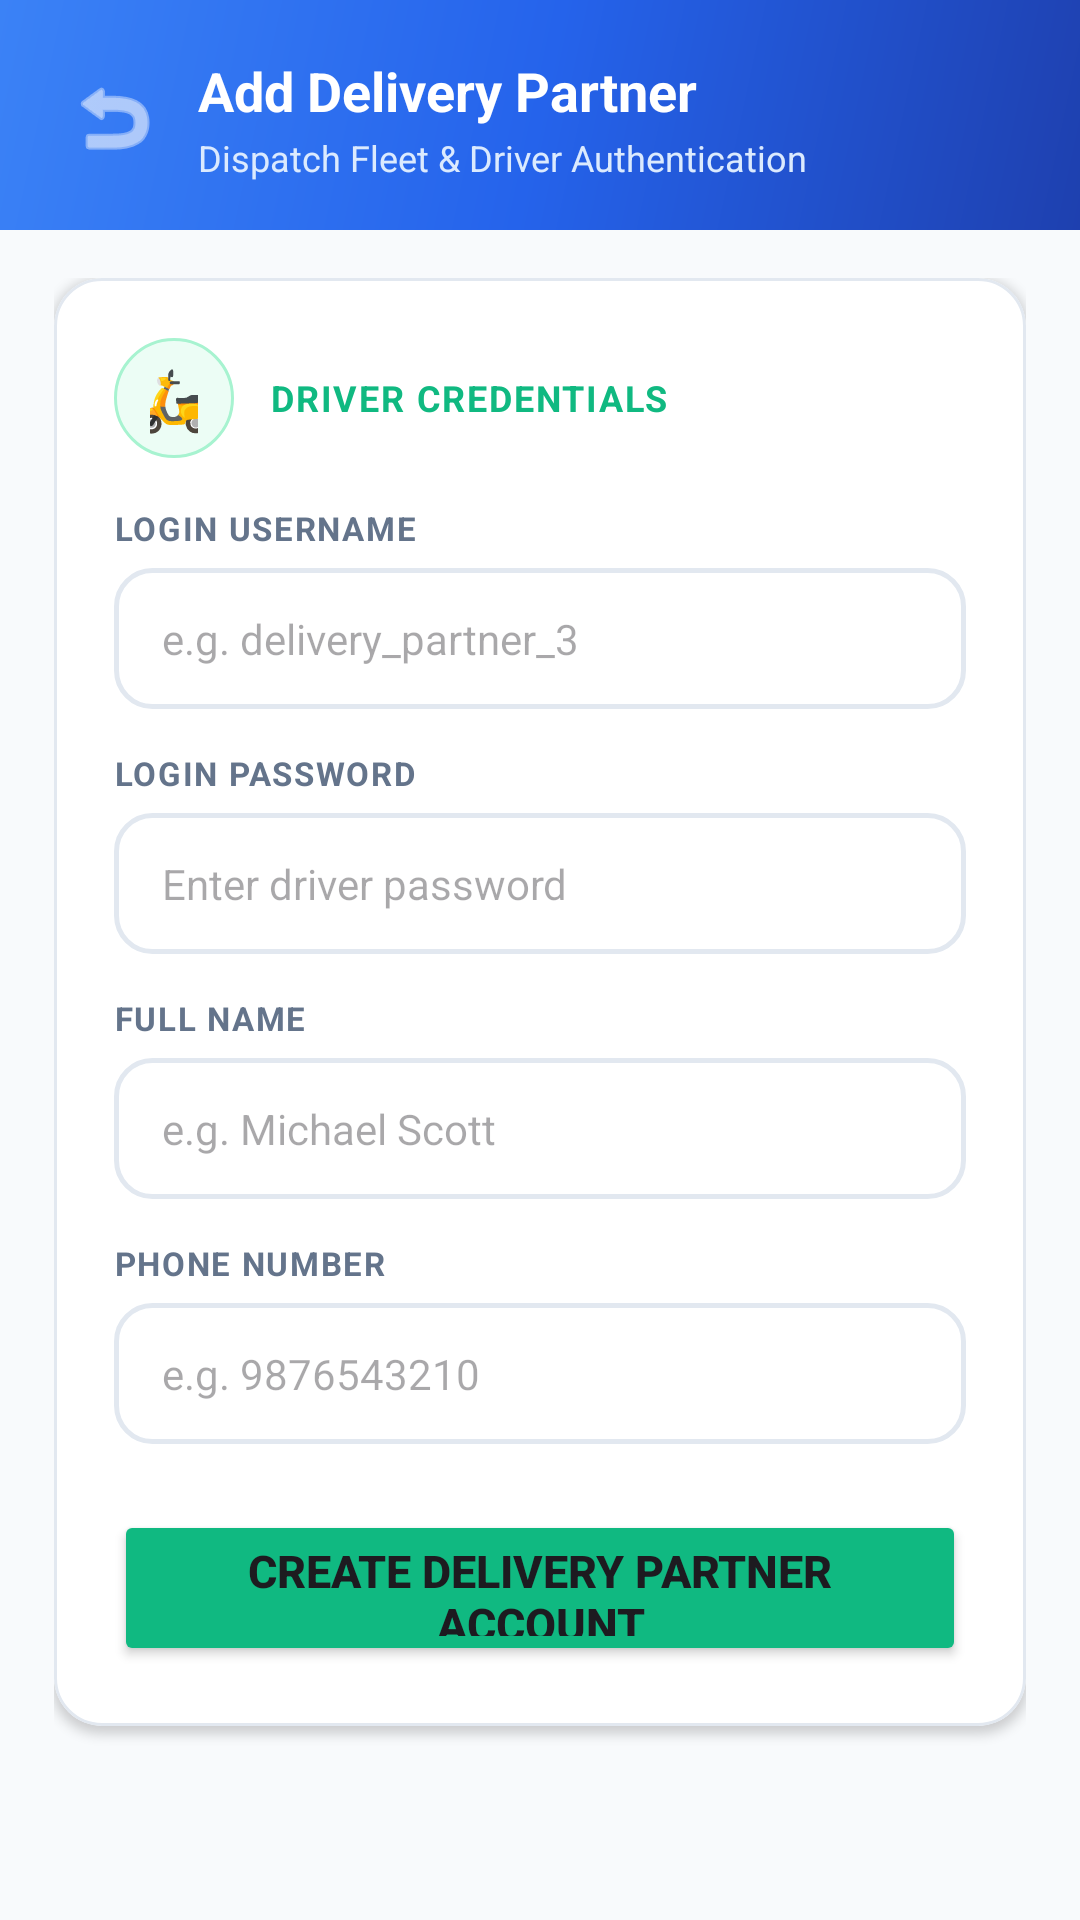

Icons on this 1080 x 1920 Android screen, each with its box as (x1, y1, x2, y2):
Back: (81, 87, 150, 150)
